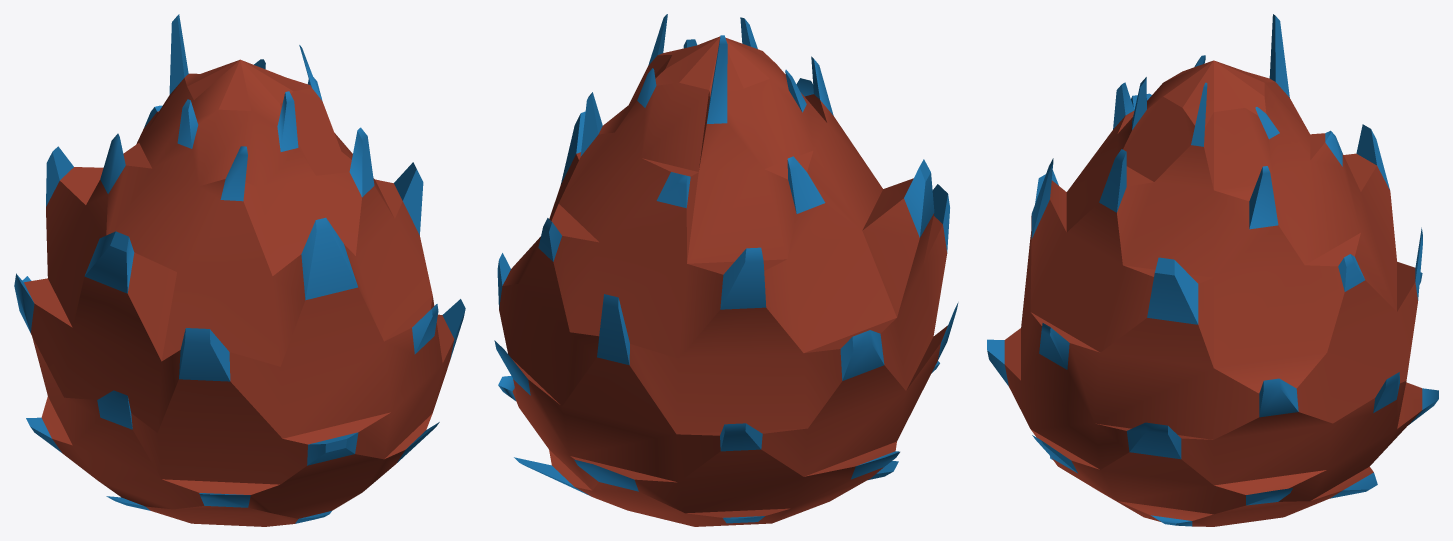
Rendered from FireFruit.fbx.
3 views of the same model, side by side, from view 1: azimuth 30°, elevation 25°; view 2: azimuth 150°, elevation 25°; view 3: azimuth 270°, elevation 25° (orthographic). The views are drawn at different scales.
Visible parts, largest first — view 1: FireFruit; view 2: FireFruit; view 3: FireFruit.
Boxes of the visible parts, x1=… form: FireFruit: x1=14, y1=14, x2=465, y2=526; FireFruit: x1=494, y1=14, x2=958, y2=526; FireFruit: x1=987, y1=14, x2=1438, y2=526.
Size of the model in its own units: 33.02 by 38.51 by 33.43.
